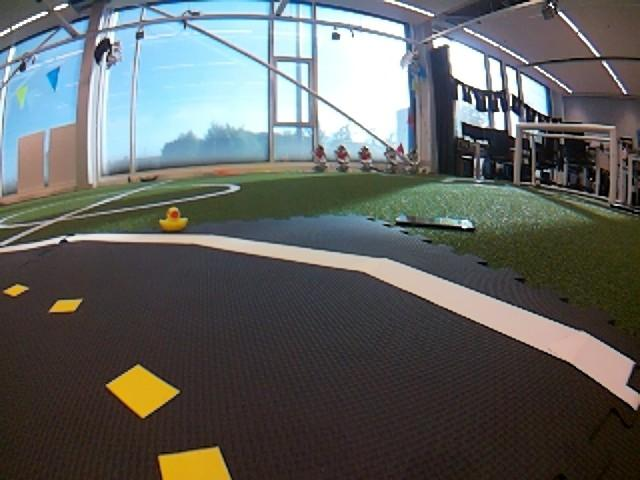Duckies: (158, 207, 187, 230)
